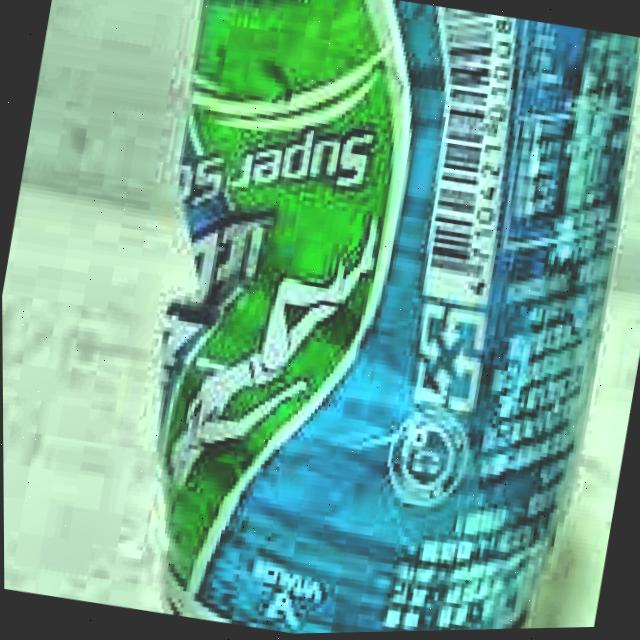metal: (72, 0, 640, 639)
